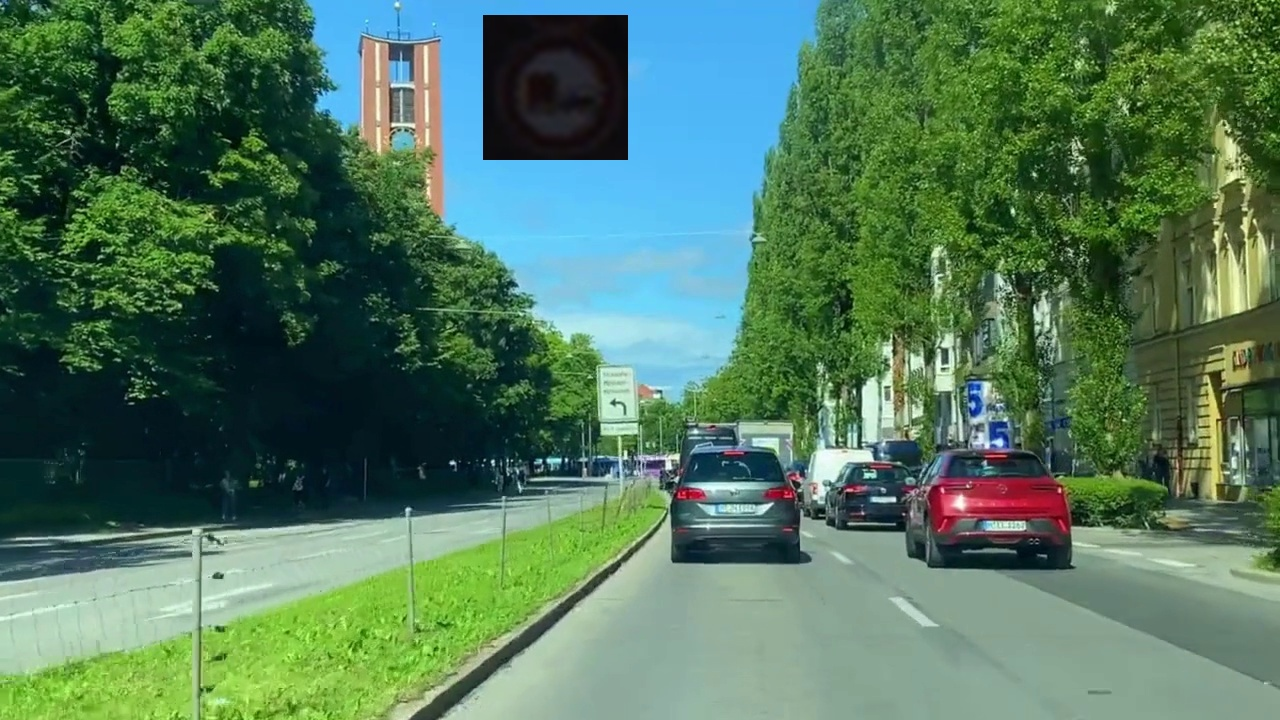No pass >3.5t: (483, 15, 628, 160)
